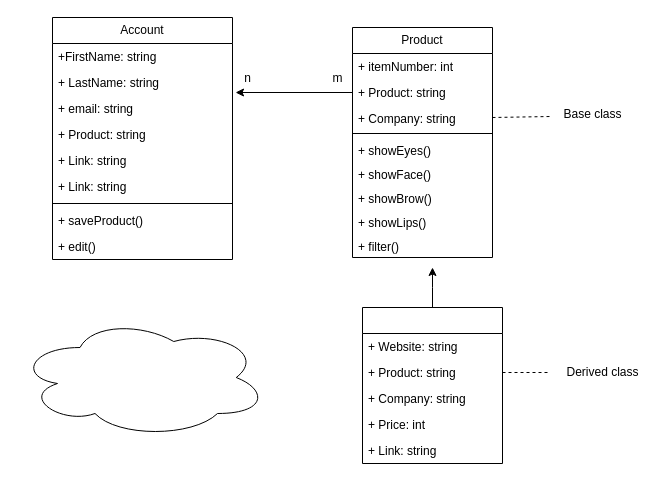
This 670x484 diagram has some shape labels left out. The shapes that lost their labels are listed below. From the top down, each one's box as (x1, y1, x2, y2) in pixels, then its label:
(16, 316, 268, 438): get/set functions are included in the object classes
(362, 306, 502, 464): Merchant
